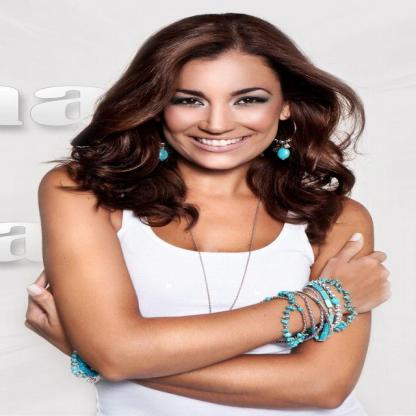long-hair: (53, 172, 365, 202)
